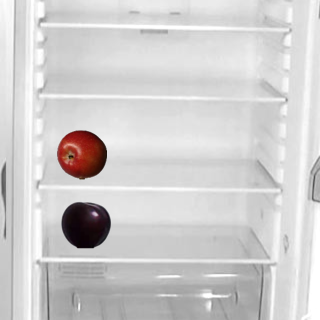Apple Braeburn: (56, 129, 106, 179)
Cherry Wax Black: (60, 199, 110, 249)
